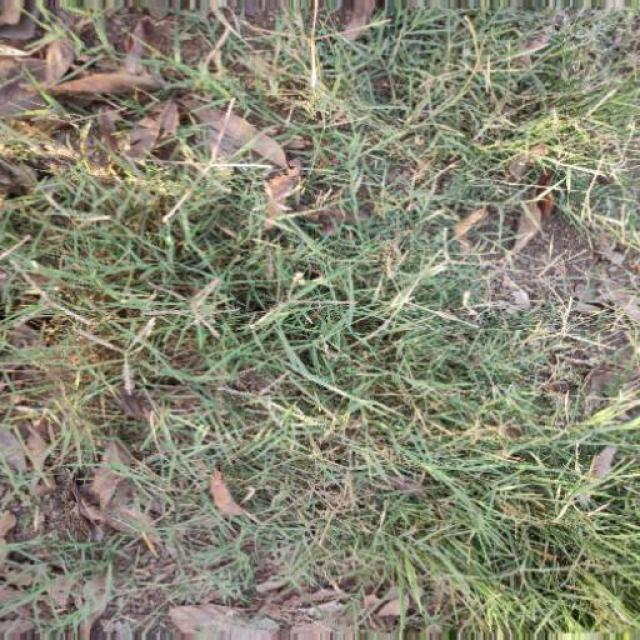weed: (10, 1, 616, 594)
